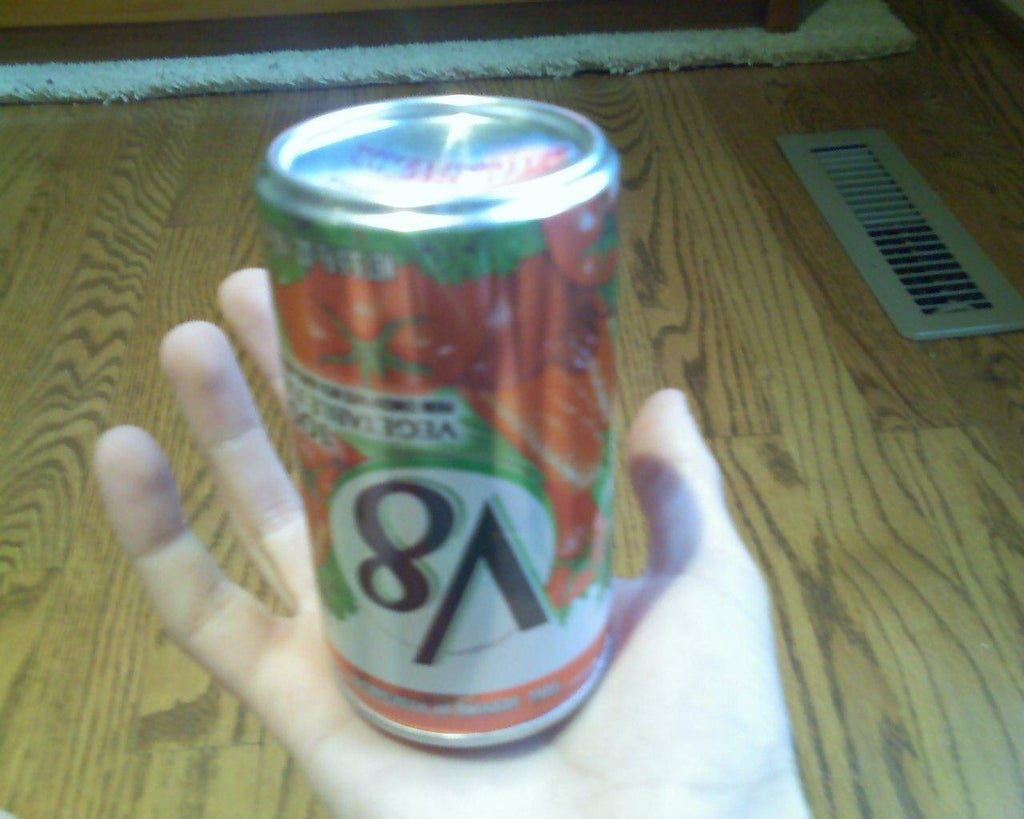can: (251, 93, 622, 757)
